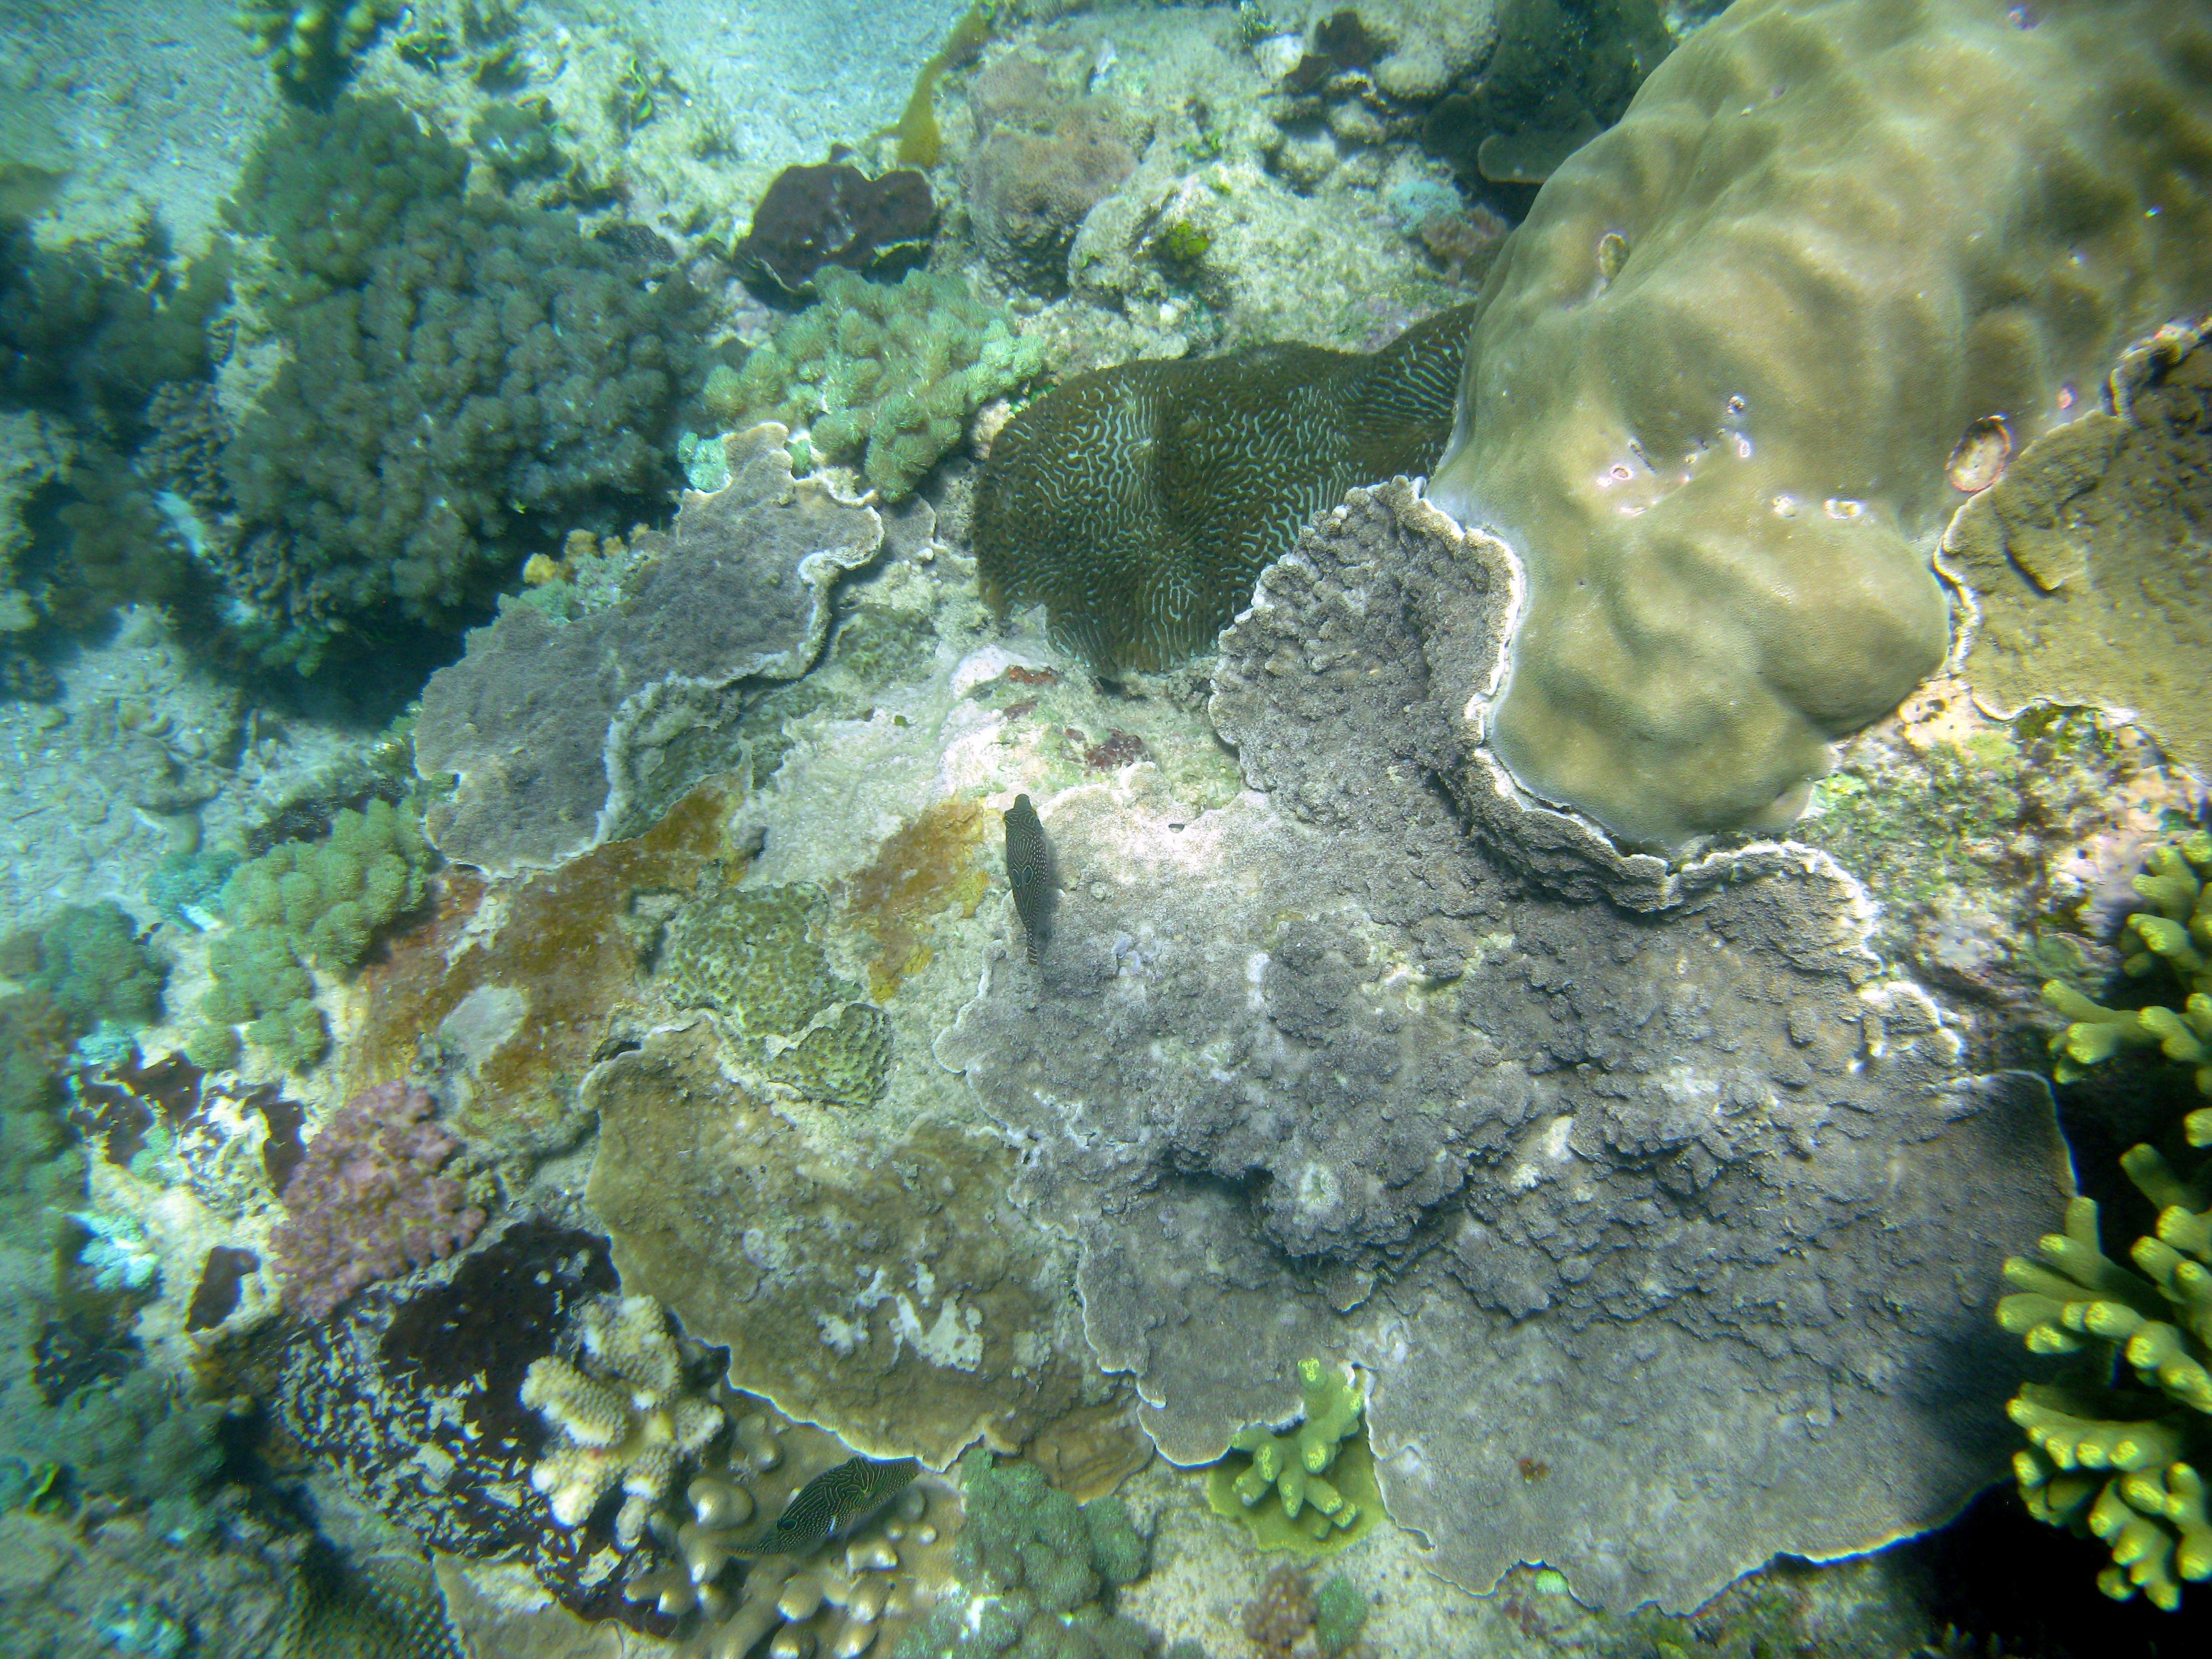Fish: (697, 1405, 970, 1589), (977, 775, 1083, 1006)
